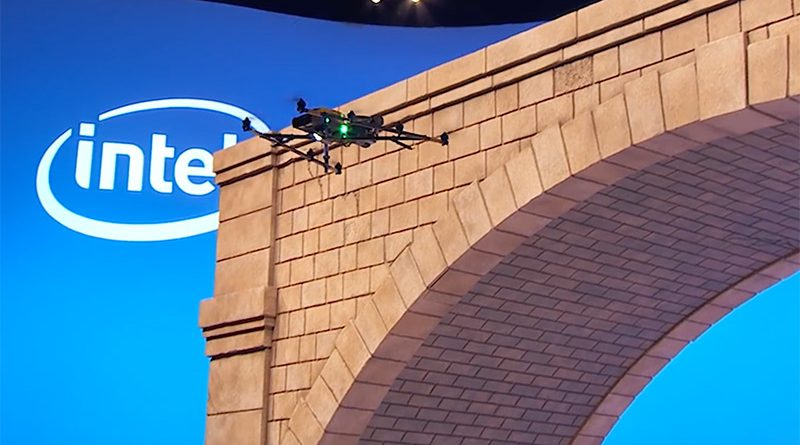drone: (233, 93, 465, 179)
